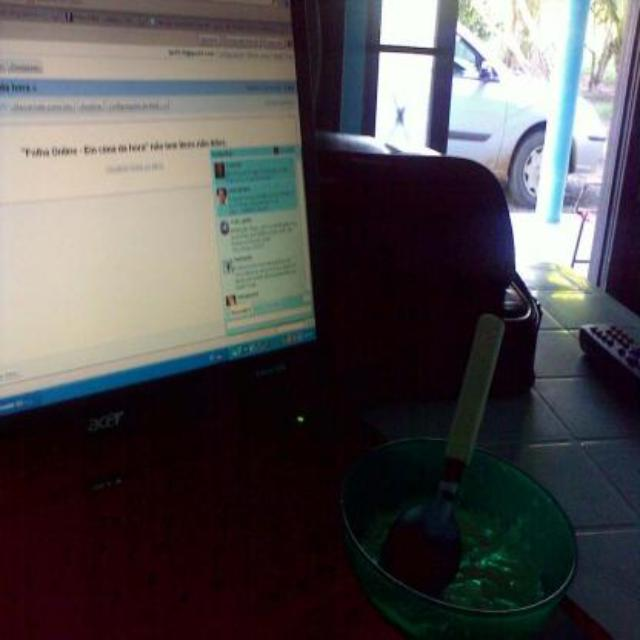Flat-Panel-Monitor: (0, 0, 334, 438)
